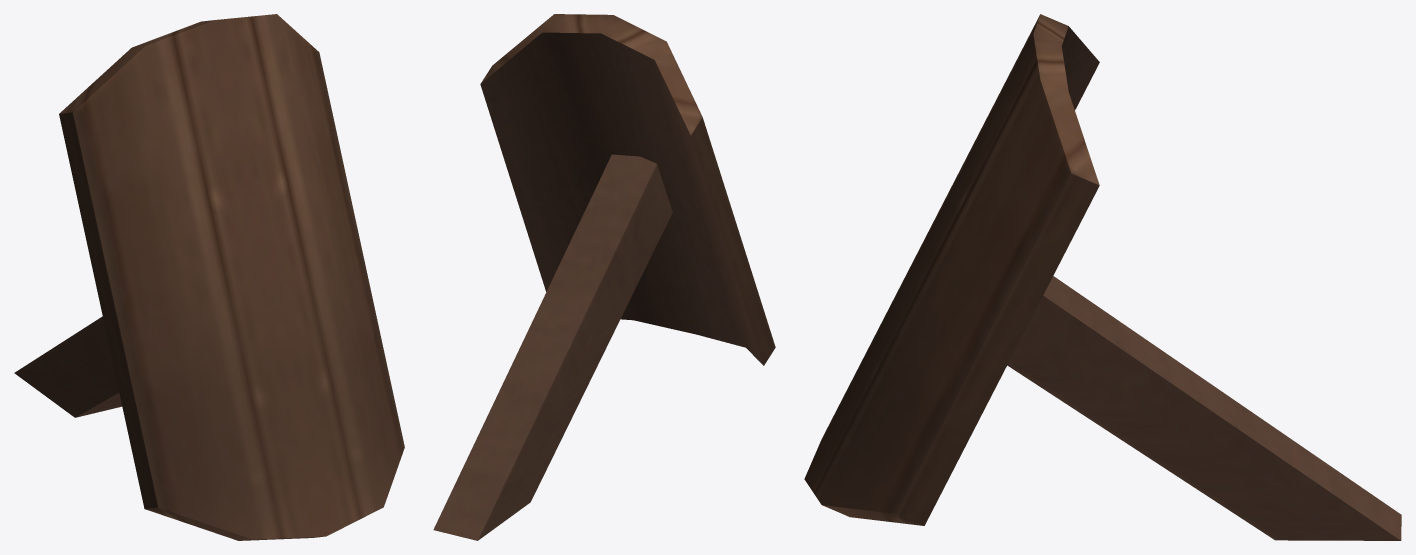
File: GZ_Xsc_dunpai_01_D.FBX
The picture shows the model from 3 angles, left to right: view 1: azimuth 30°, elevation 25°; view 2: azimuth 150°, elevation 25°; view 3: azimuth 270°, elevation 25°; orthographic projection. The views are drawn at different scales.
Parts seen in each view (by area): view 1: GZ_Xsc_dunpai_01_D; view 2: GZ_Xsc_dunpai_01_D; view 3: GZ_Xsc_dunpai_01_D.
Boxes of the visible parts, x1,y1,x2,y2 form: GZ_Xsc_dunpai_01_D: [14, 14, 404, 540]; GZ_Xsc_dunpai_01_D: [433, 14, 775, 540]; GZ_Xsc_dunpai_01_D: [804, 14, 1401, 540].
Bounding box in the file's own units: 1.2 × 2.23 × 2.46.
